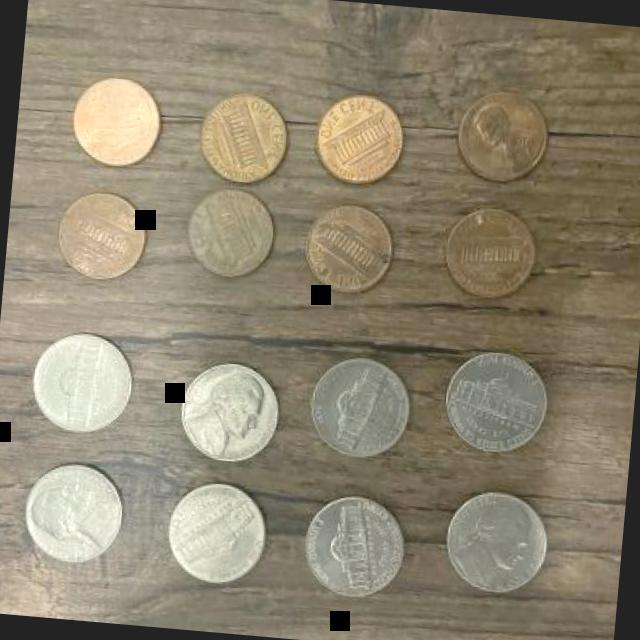Nickel: (438, 482, 548, 602), (15, 455, 126, 572), (302, 350, 411, 467), (24, 324, 138, 435), (437, 348, 551, 458), (296, 488, 407, 598), (171, 356, 278, 466), (159, 478, 266, 588)
Penny: (436, 200, 542, 306), (190, 85, 294, 189), (176, 182, 276, 288), (306, 88, 406, 194), (66, 70, 162, 175), (295, 197, 395, 297), (448, 86, 546, 186), (52, 183, 148, 284)
